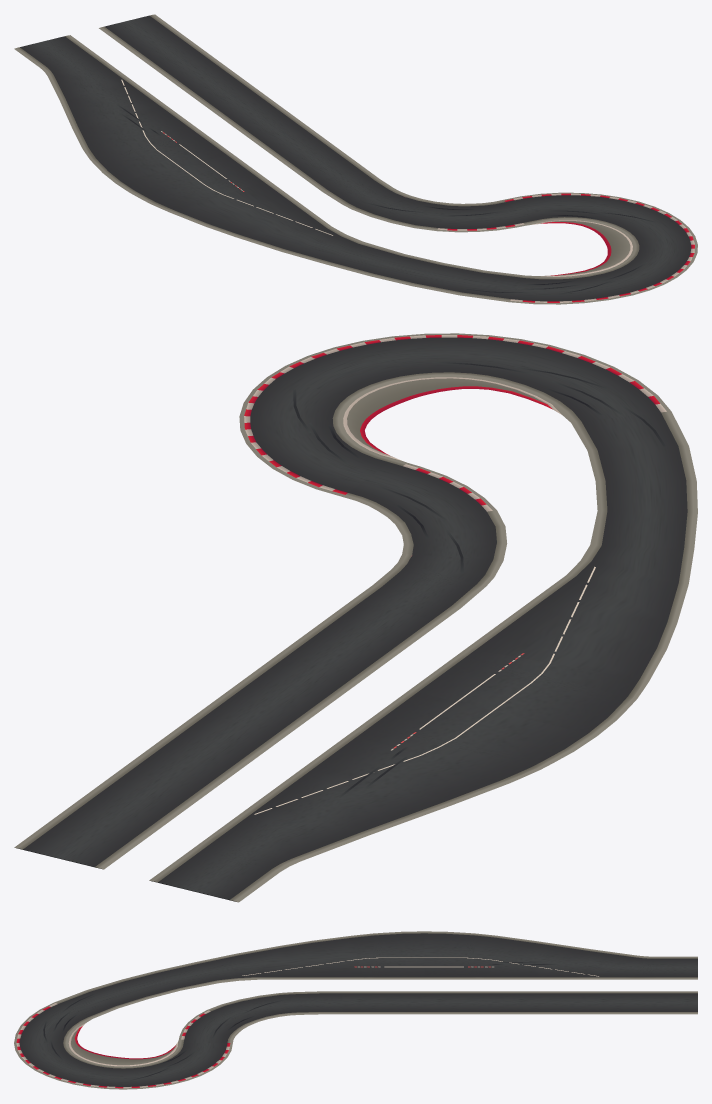
File: Special_1C.glb
The picture shows the model from 3 angles, top to bottom: view 1: azimuth 30°, elevation 25°; view 2: azimuth 150°, elevation 25°; view 3: azimuth 270°, elevation 25°; orthographic projection. The views are drawn at different scales.
Visible parts, largest first — view 1: Special_1C, Special_1C_Skidmarks; view 2: Special_1C, Special_1C_Skidmarks; view 3: Special_1C, Special_1C_Skidmarks.
Boxes of the visible parts, x1,y1,x2,y2 form: Special_1C: (14, 14, 697, 304); Special_1C_Skidmarks: (116, 104, 655, 294); Special_1C: (14, 333, 697, 902); Special_1C_Skidmarks: (293, 361, 665, 797); Special_1C: (14, 931, 697, 1089); Special_1C_Skidmarks: (43, 961, 558, 1080).
Bounding box in the file's own units: 137 × 0.1208 × 250.
1 material, 1 textured.
